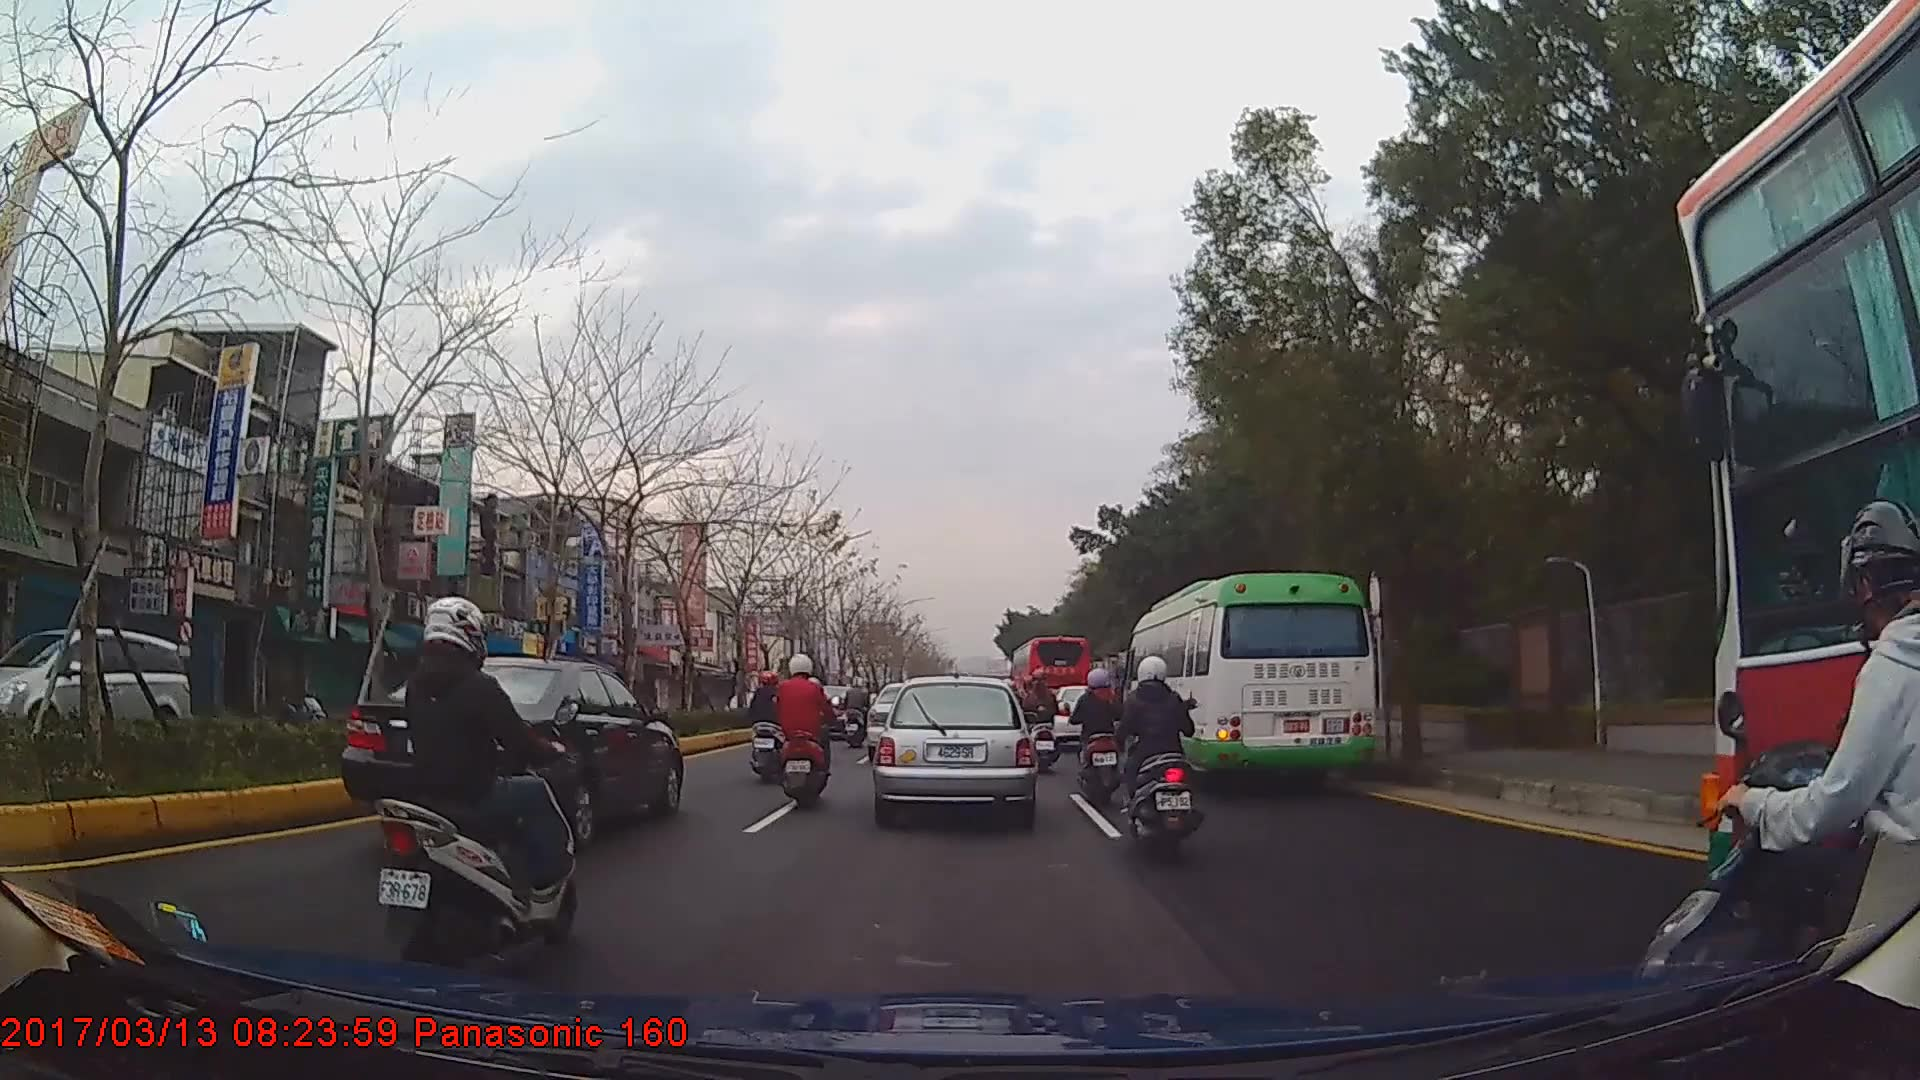rider: (1640, 494, 1920, 1022), (376, 595, 576, 980), (1121, 655, 1207, 863), (771, 653, 831, 812), (1067, 667, 1129, 810), (747, 669, 791, 785), (1019, 670, 1060, 776), (840, 678, 873, 750)
vehicle: (1678, 0, 1920, 1000), (337, 657, 681, 847), (1122, 572, 1380, 794), (873, 674, 1034, 825), (0, 627, 189, 749), (1009, 634, 1093, 730)
